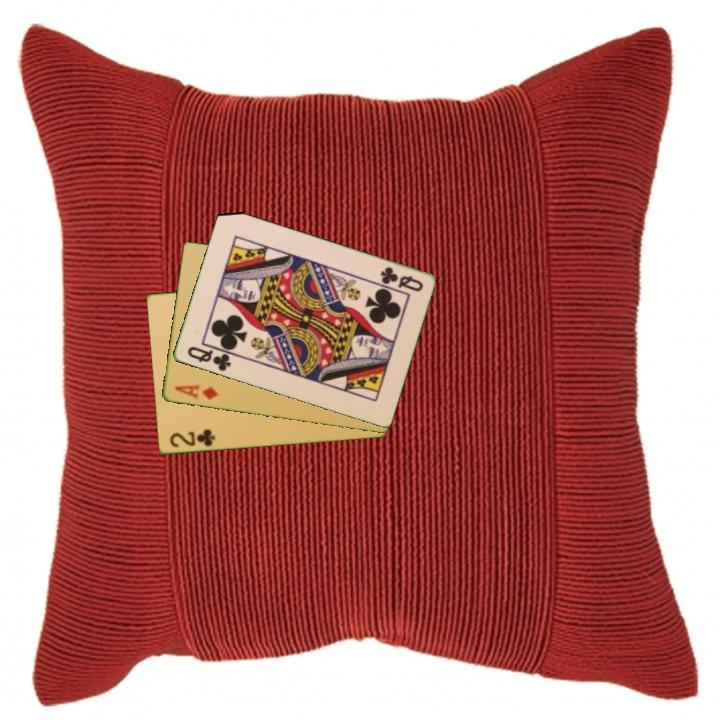2c: (166, 426, 218, 450)
Ad: (171, 381, 221, 403)
Qc: (376, 263, 426, 295), (183, 343, 234, 374)
